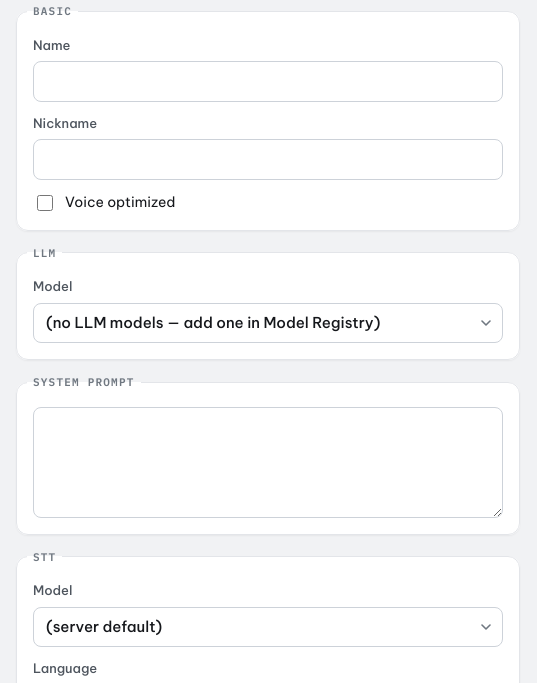
Scenario: blocks save and shows an error when MCP headers JSON is invalid
The width and height of the screenshot is (537, 683).
Type "x" into the field labelled "Name".
click(268, 81); type("x")  # box [33, 61, 503, 102]
(page scrolled)
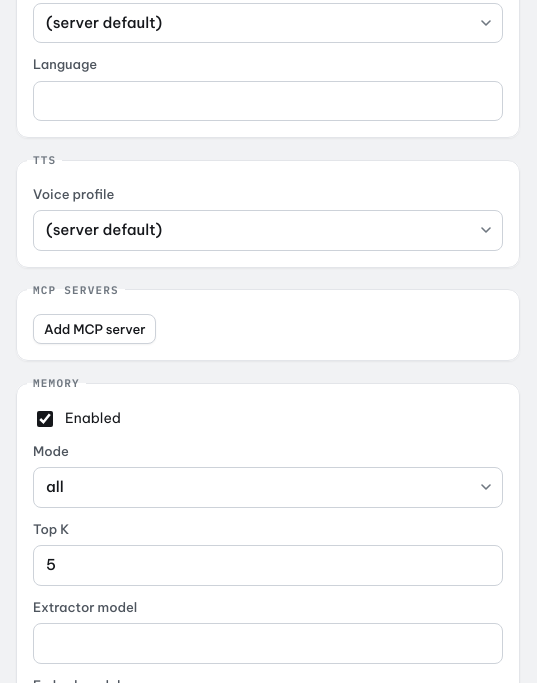
Click the button "Add MCP server".
click(95, 329)  # box [33, 314, 156, 344]
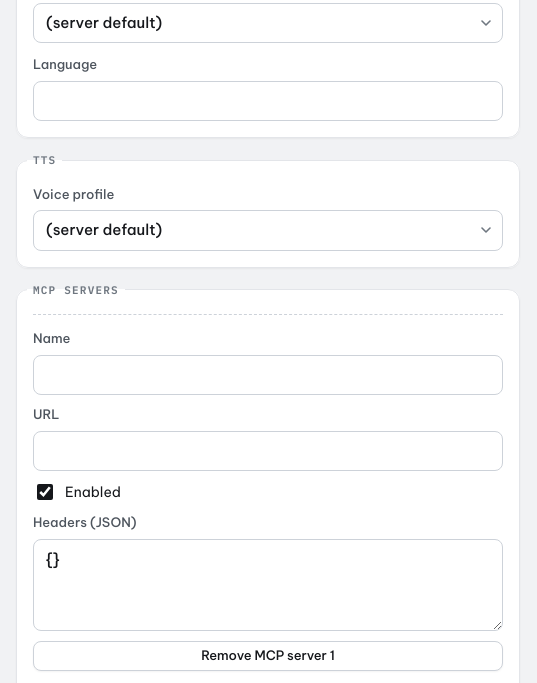
Replace the text in the text box named "MCP server 1 headers (JSON)" with "not json" at (268, 584), box [33, 538, 503, 630]
(page scrolled)
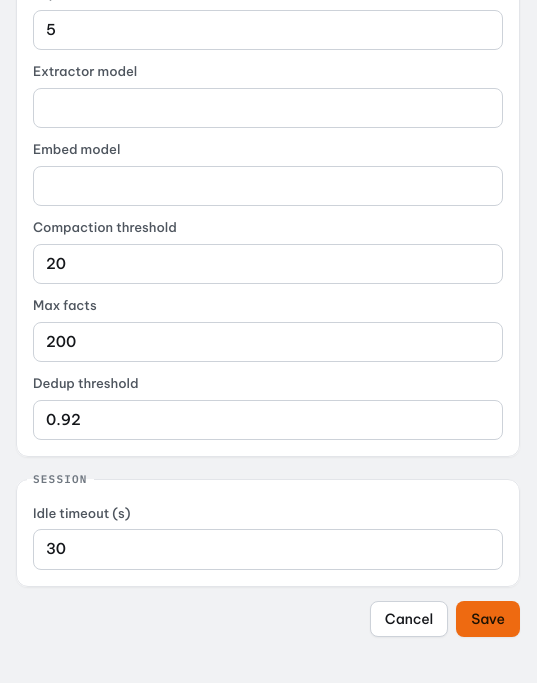
Click the button "Save".
click(488, 618)  # box [456, 600, 520, 636]
(page scrolled)
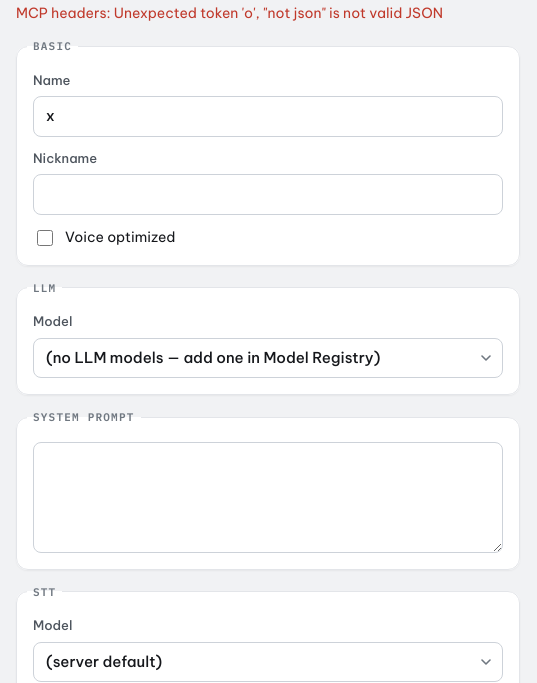
Now the message is shown, box [16, 4, 443, 22]
